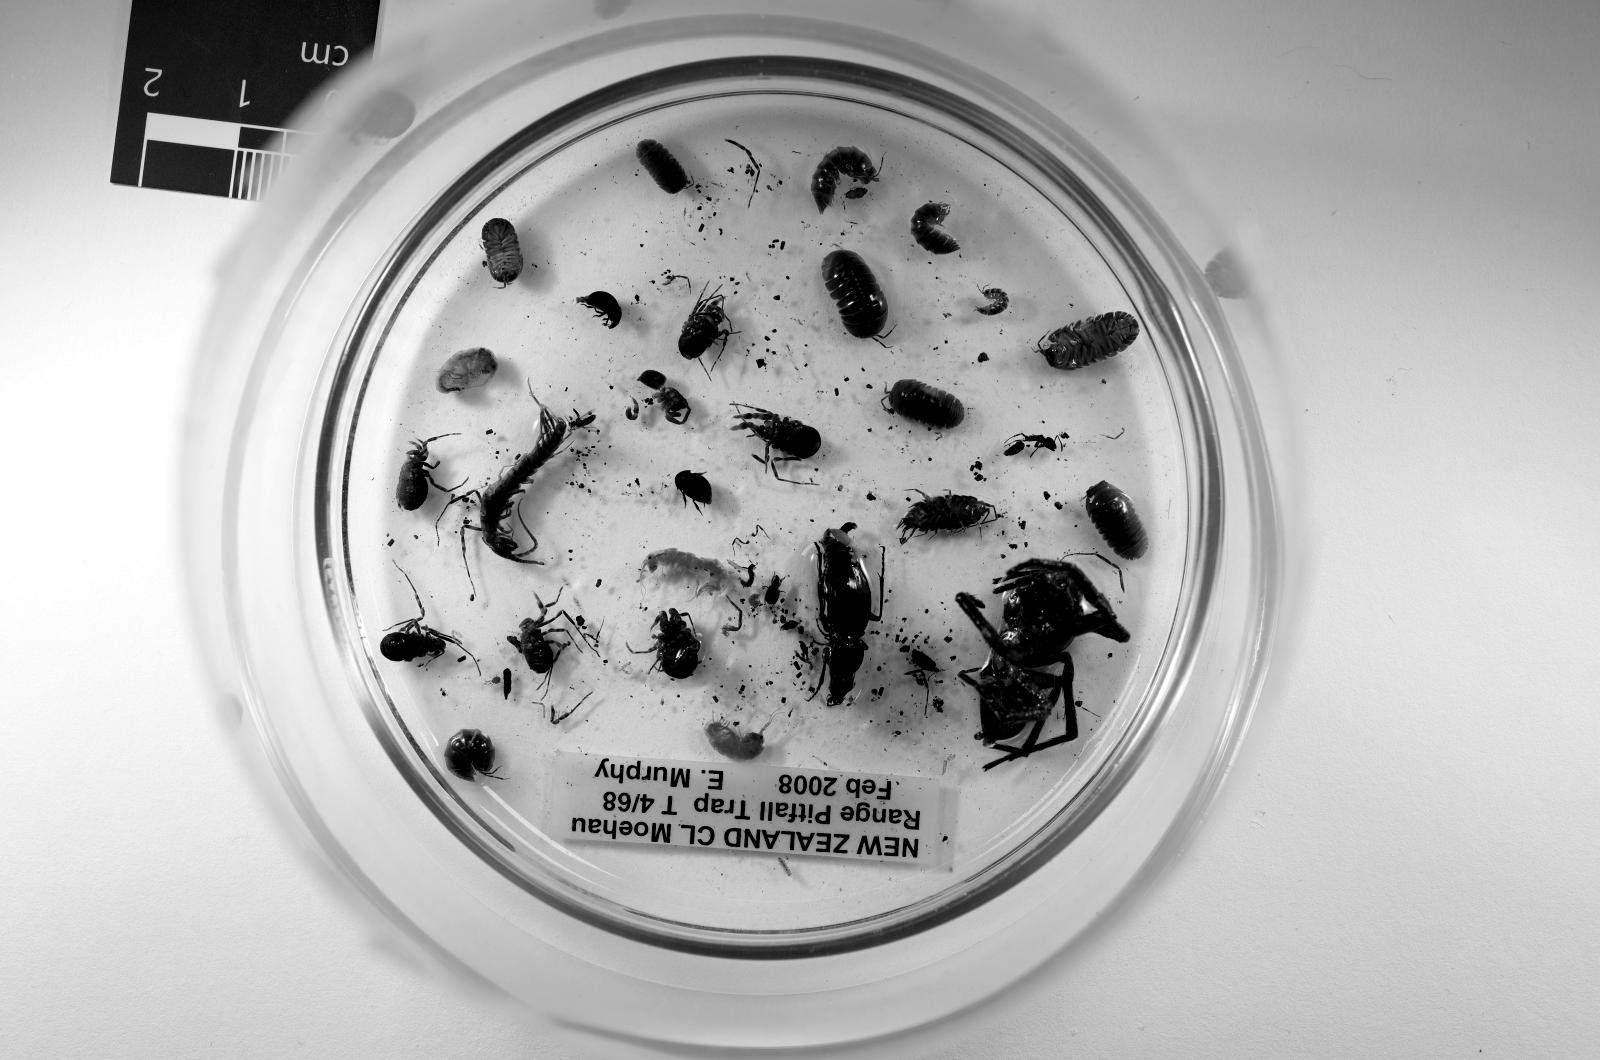acari: (491, 677, 503, 686)
amphipoda: (638, 550, 728, 596), (438, 348, 497, 394), (703, 720, 762, 761)
araneae: (956, 559, 1131, 767), (638, 370, 691, 425)
carabidae: (816, 525, 881, 705)
chilopoda: (459, 404, 569, 565)
coleoptera: (575, 292, 622, 329), (675, 469, 712, 509), (728, 559, 756, 587), (762, 575, 781, 606), (569, 413, 597, 429), (781, 618, 800, 630)
formicidae: (1003, 435, 1059, 457)
isopoda: (822, 248, 888, 338), (1038, 311, 1138, 370), (900, 491, 1000, 543), (1084, 481, 1150, 559), (812, 146, 878, 211), (884, 379, 966, 429), (634, 140, 688, 193), (481, 217, 522, 286), (909, 202, 959, 255), (444, 730, 494, 779), (975, 286, 1009, 317)
opiliones: (731, 407, 822, 472), (381, 587, 459, 661), (519, 599, 572, 674), (678, 292, 734, 360), (647, 609, 700, 680), (397, 441, 447, 509)
